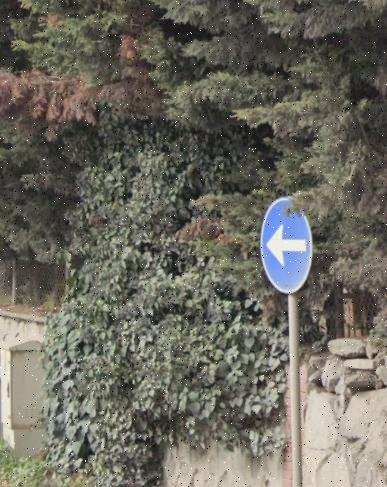leftturnsareforbidden: (260, 197, 317, 288)
